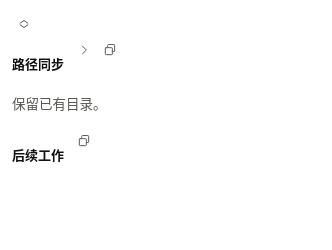
Test case: keeps titles and descriptions visible while only details start collapsed
This screenshot has width=332, height=250.
Expected: the heading "路径同步" is shown, top-left (12, 54), bottom-right (64, 74)
Expected: the text "保留已有目录。" is shown, top-left (12, 96), bottom-right (106, 112)
Click the button named "展开路径同步的细则".
click(84, 50)  # box top-left (72, 38), bottom-right (96, 62)
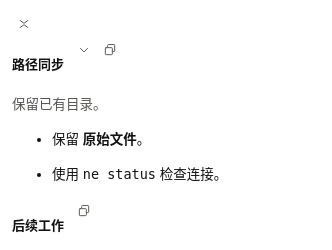
Expected: the button named "展开路径同步的细则" is expanded
Click the button named "展开路径同步的细则".
click(84, 50)  # box top-left (72, 38), bottom-right (96, 62)
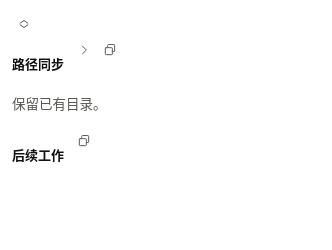
Expected: the text "保留已有目录。" is shown, top-left (12, 96), bottom-right (106, 112)
Expected: the list is gone
